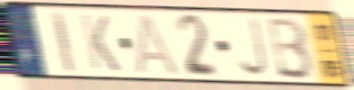2: (175, 11, 220, 80)
A: (135, 12, 182, 78)
B: (266, 15, 316, 82)
I: (50, 9, 78, 75)
J: (235, 16, 270, 78)
K: (78, 12, 122, 74)
